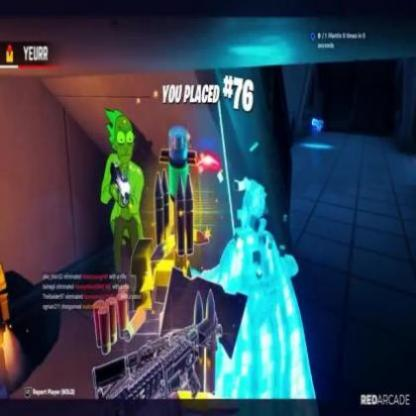person: (79, 130, 169, 274)
